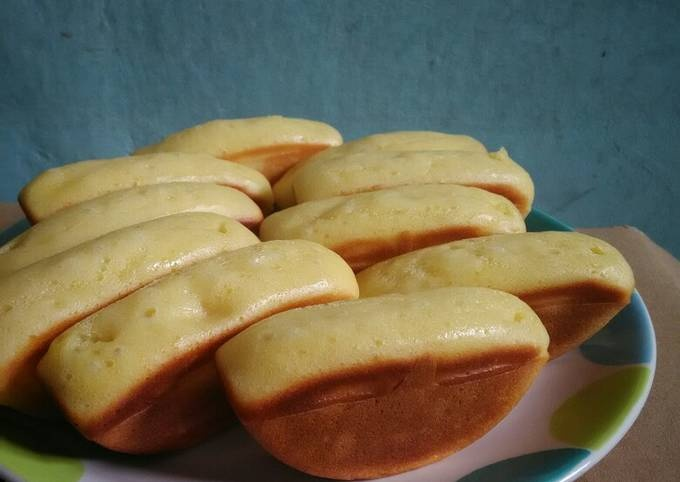pukis: (181, 297, 579, 474)
